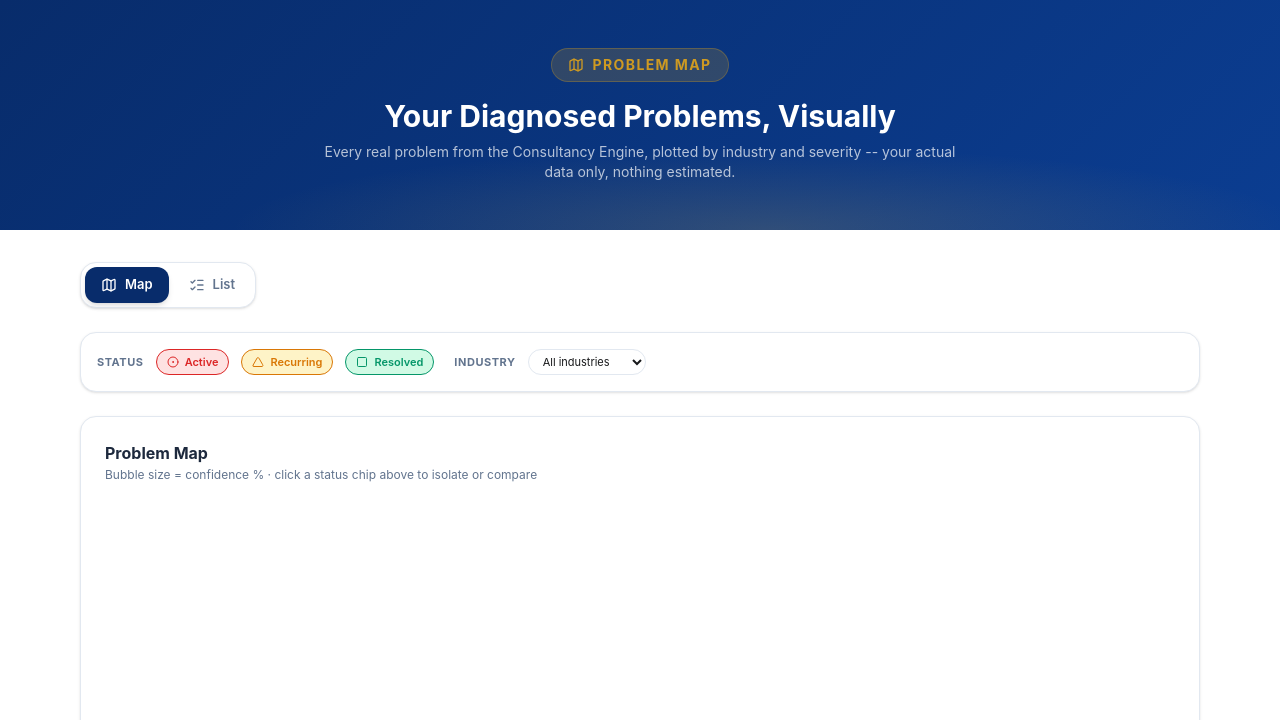
Scenario: ProblemMap › status legend filters points -- clicking Active off hides Active rows in the List tab
Click the tab "List" at (212, 285), box 173,267 -> 251,302
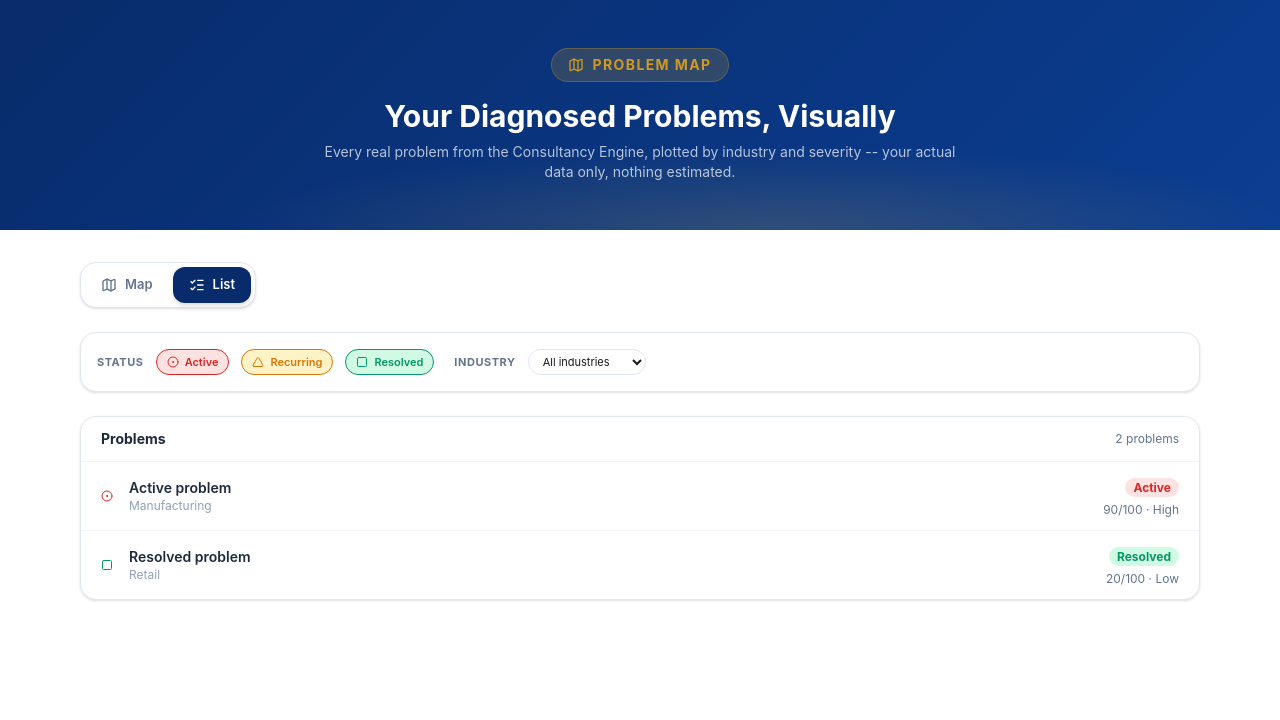
Expected: the heading "Problems" is shown, 101,429 -> 166,449
Expected: the text "Active problem" is shown, 129,479 -> 231,496
Expected: the text "Resolved problem" is shown, 129,548 -> 250,565
# Click the "Active" legend chip to hide Active-status points
Click the button "Active" at (192, 362), box 156,348 -> 229,375
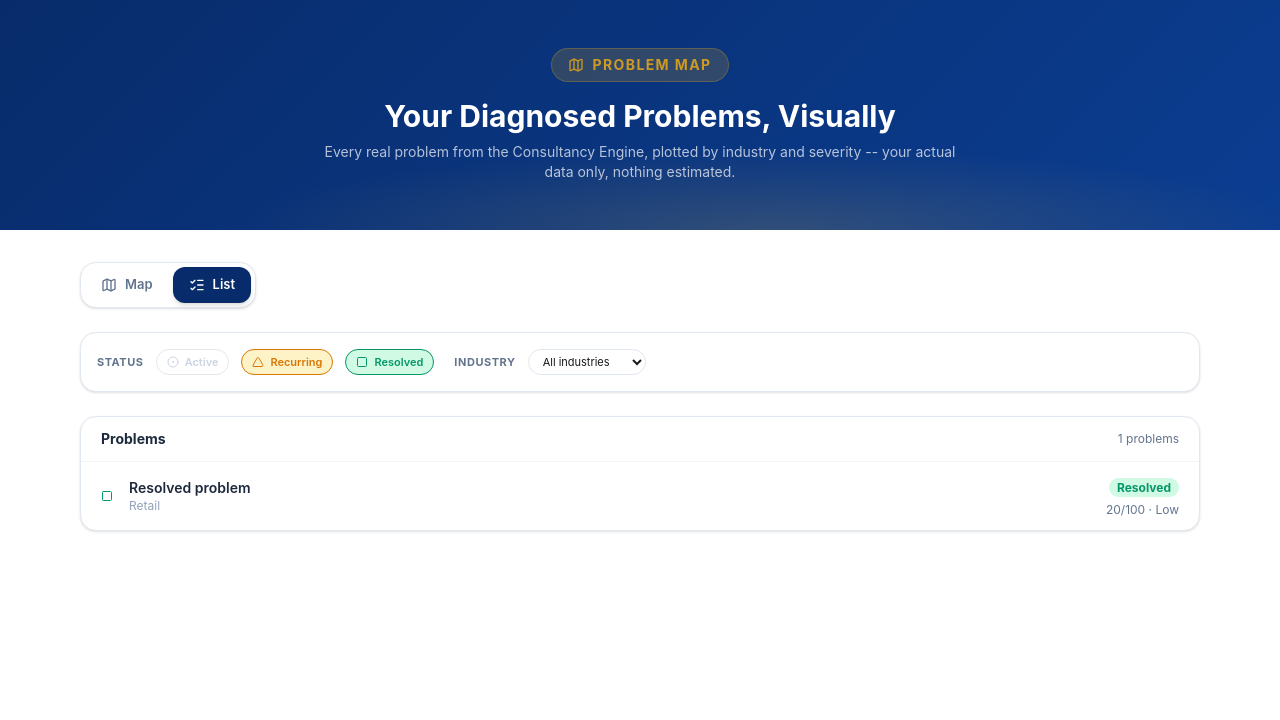
Expected: the text "Resolved problem" is shown, 129,479 -> 250,496
Expected: the text "Active problem" is gone
